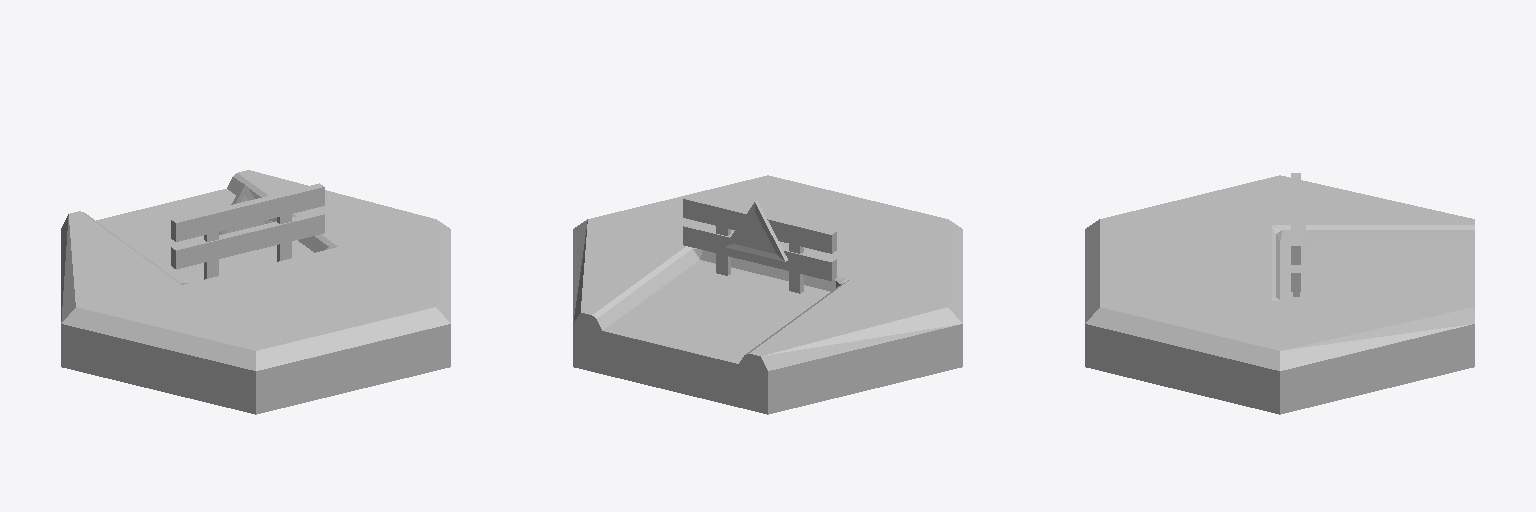
Rendered from roadblock.obj.
3 views of the same model, side by side, from view 1: azimuth 30°, elevation 25°; view 2: azimuth 150°, elevation 25°; view 3: azimuth 270°, elevation 25° (orthographic).
Parts seen in each view (by area): view 1: roadblock uv_done_textures_needed og; view 2: roadblock uv_done_textures_needed og; view 3: roadblock uv_done_textures_needed og.
Boxes of the visible parts, x1=… form: roadblock uv_done_textures_needed og: x1=61, y1=170, x2=450, y2=414; roadblock uv_done_textures_needed og: x1=573, y1=175, x2=962, y2=414; roadblock uv_done_textures_needed og: x1=1085, y1=173, x2=1474, y2=414.
Size of the model in its own units: 2 by 0.6255 by 1.73.